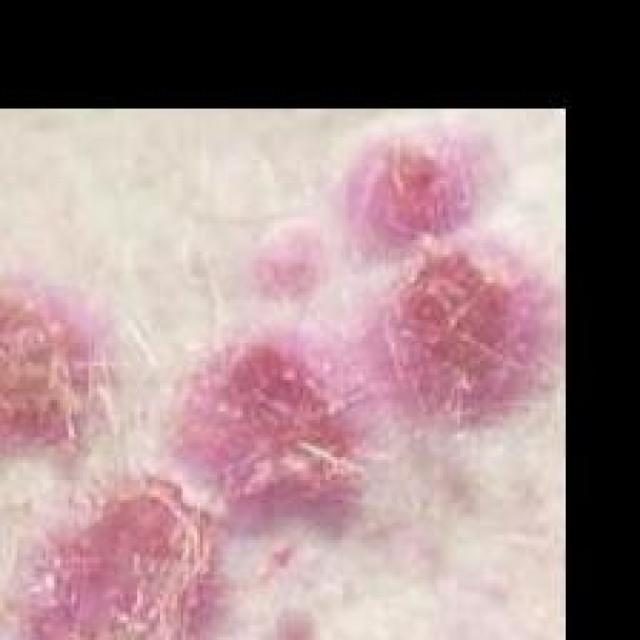monkeypox: (3, 134, 539, 640)
